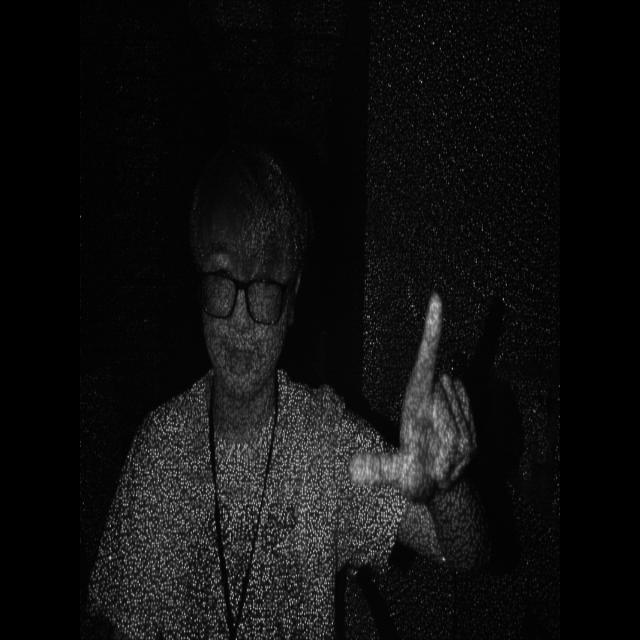L: (342, 264, 480, 498)
